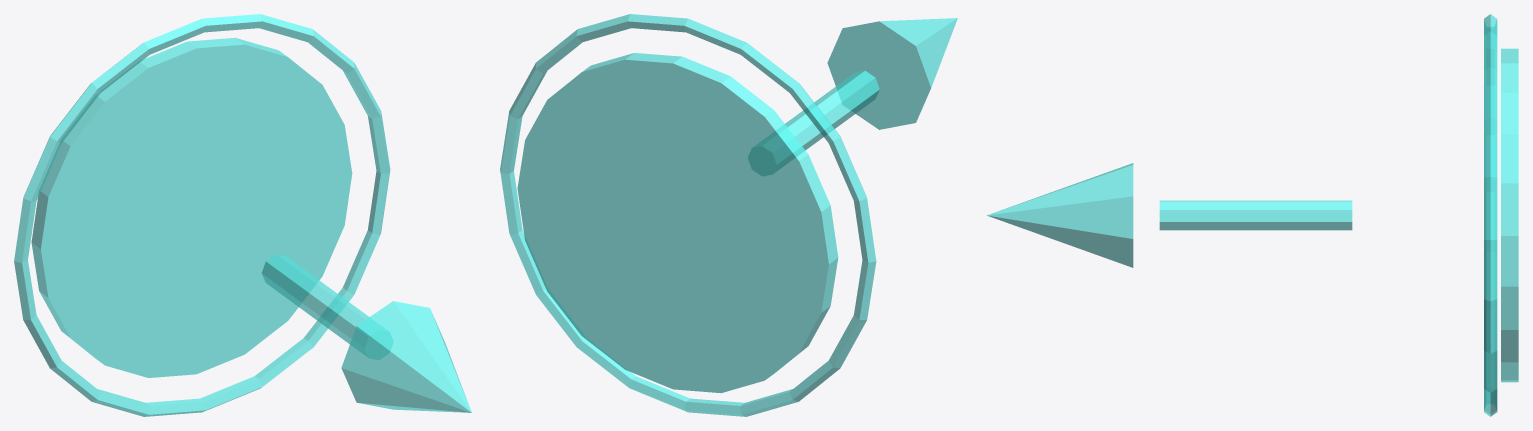
Rendered from 11_path_breadcrumb_marker.glb.
3 renders of one model, left to right at view 1: azimuth 30°, elevation 25°; view 2: azimuth 150°, elevation 25°; view 3: azimuth 270°, elevation 25°, orthographic. The views are drawn at different scales.
Visible parts, largest first — view 1: base_disc, base_ring, arrow_head, arrow_stem; view 2: base_disc, base_ring, arrow_head, arrow_stem; view 3: arrow_head, base_disc, arrow_stem, base_ring.
Boxes of the visible parts, x1=… form: base_disc: x1=31, y1=37, x2=352, y2=377; base_ring: x1=14, y1=14, x2=390, y2=416; arrow_head: x1=341, y1=301, x2=471, y2=412; arrow_stem: x1=261, y1=254, x2=392, y2=359; base_disc: x1=517, y1=53, x2=838, y2=393; base_ring: x1=500, y1=14, x2=876, y2=416; arrow_head: x1=827, y1=18, x2=957, y2=129; arrow_stem: x1=748, y1=70, x2=879, y2=175; arrow_head: x1=986, y1=163, x2=1133, y2=267; base_disc: x1=1501, y1=48, x2=1518, y2=382; arrow_stem: x1=1159, y1=200, x2=1352, y2=230; base_ring: x1=1484, y1=14, x2=1497, y2=416.
Size of the model in its own units: 1.16 by 1.16 by 1.52.
